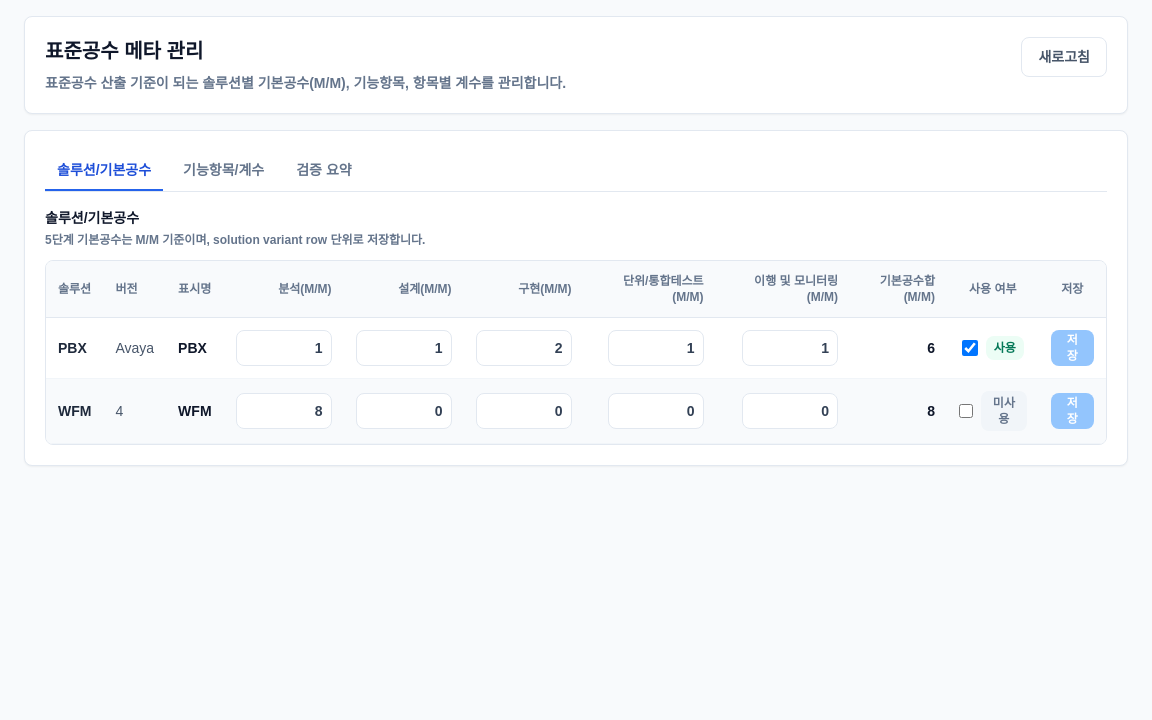
Test: StandardEffortMetaPage › marks a base effort row dirty and saves the row
Replace the text in the number field named "PBX 분석(M/M)" with "2.5" at point(284, 348), box [236,330,332,366]
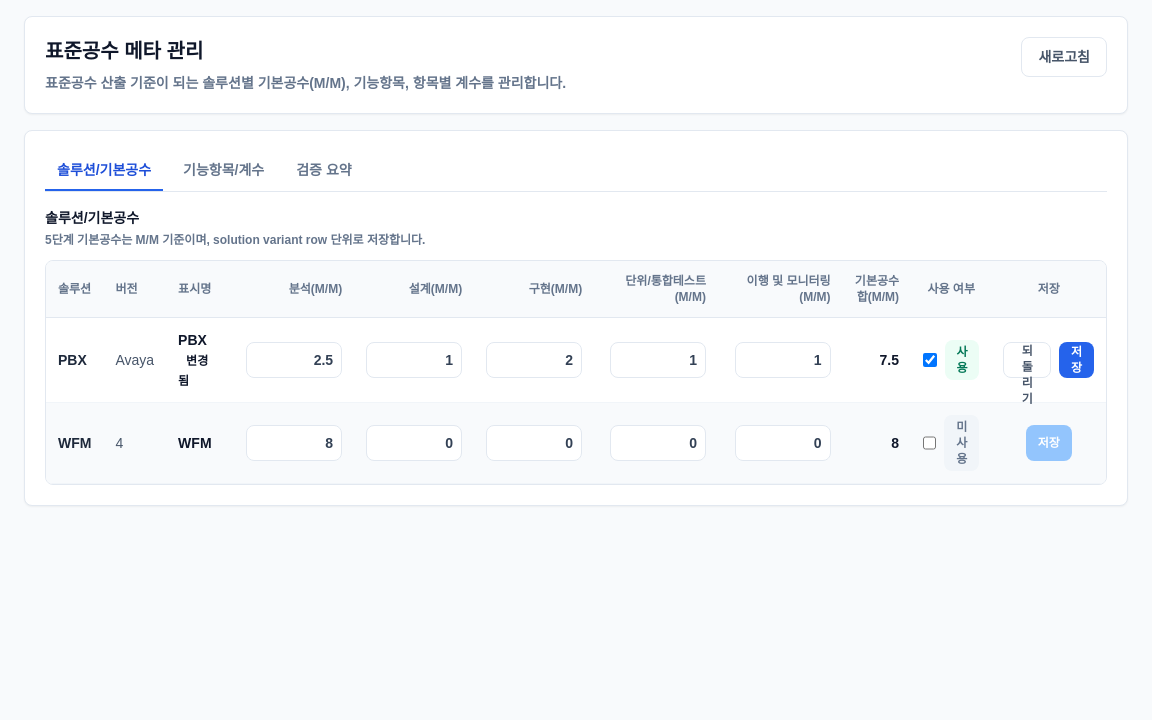
Now the text "변경됨" is shown, box [178,350,208,392]
Now the button "저장" in the row of "Avaya" is enabled
Click the button "저장" in the row of "Avaya" at point(1076, 360), box [1059,342,1094,378]
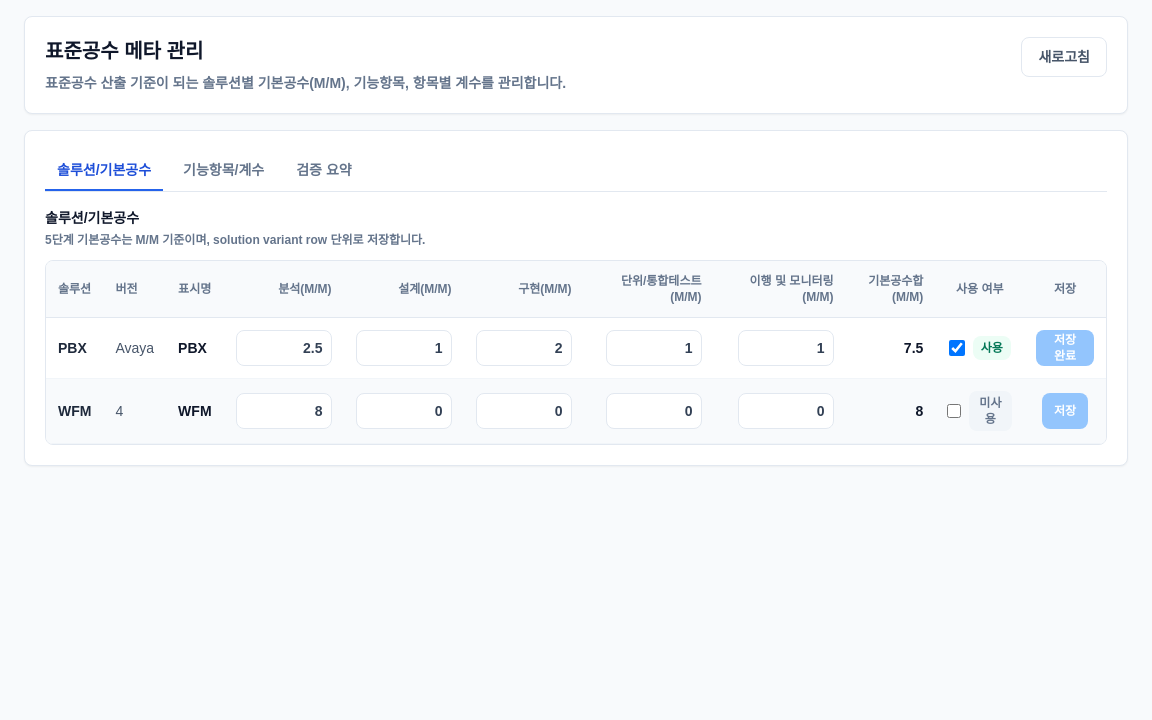
Now the button "저장 완료" is shown, box [1036,330,1094,366]
Now the text "변경됨" is gone
